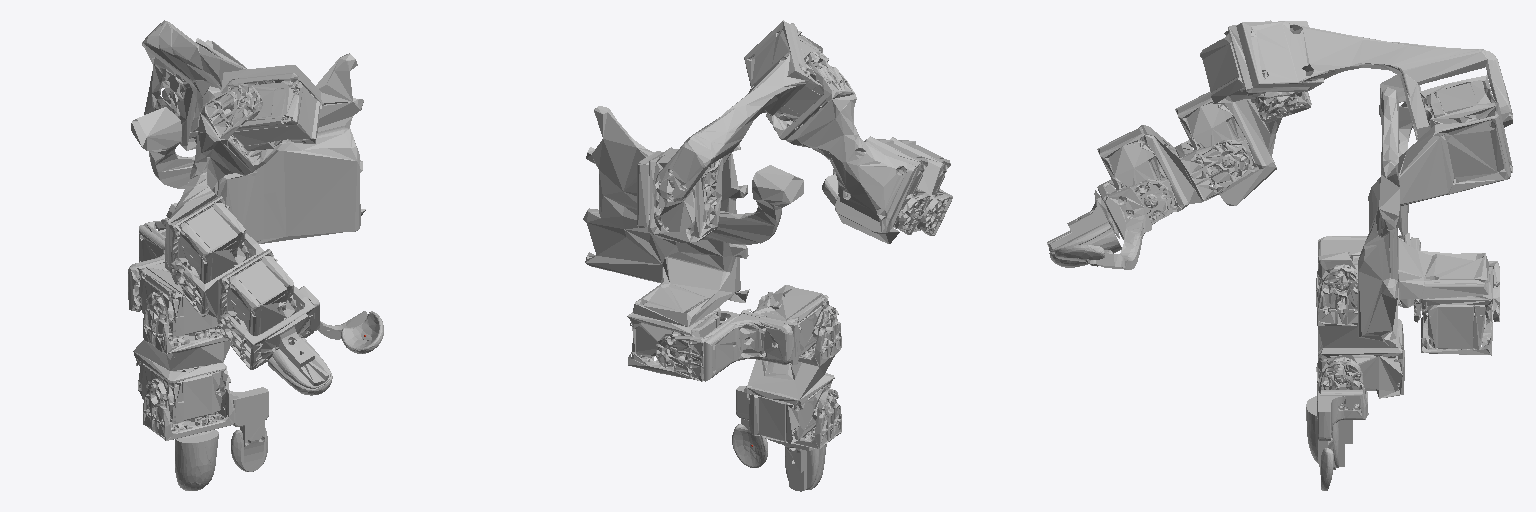
The robot description file, URDF, robot "ditto_leader_7dof":
<?xml version="1.0"?>
<!-- Cleaned from the SolidWorks export fingertip_tracking_urdf_leader_v1.urdf: re-rooted at hand_piece (same joint values give the same pose), relative mesh paths, decimated meshes, marker spheres as primitives. Joint limits are the follower limits of hand_config/7dof_f02 (leader angles map 1:1 to the follower). -->
<robot name="ditto_leader_7dof">
  <link name="thumb_sphere">
    <inertial>
      <origin xyz="-2.844e-07 -0.01781916505 0.1758409884" rpy="0 0 0" />
      <mass value="5.23598775598299E-07" />
      <inertia ixx="5.23598775598299E-14" ixy="4.05800245658716E-30" ixz="-4.82056920754523E-30" iyy="5.23598775598299E-14" iyz="5.03864245159366E-30" izz="5.23598775598299E-14" />
    </inertial>
    <visual>
      <origin xyz="0 0 0" rpy="0 0 0" />
      <geometry>
        <sphere radius="0.000499651" />
      </geometry>
      <material name="marker">
        <color rgba="0.9 0.3 0.2 1" />
      </material>
    </visual>
    <collision>
      <origin xyz="0 0 0" rpy="0 0 0" />
      <geometry>
        <sphere radius="0.000499651" />
      </geometry>
    </collision>
  </link>
  <link name="thumb_fingertip">
    <inertial>
      <origin xyz="-0.0005143214167 -0.02128382673 0.003585513538" rpy="0 0 0" />
      <mass value="0.00663294273043832" />
      <inertia ixx="6.81038273411615E-07" ixy="1.99491502315781E-07" ixz="-4.27390127077952E-08" iyy="6.40566772977354E-07" iyz="2.3904592821882E-08" izz="9.0551022357068E-07" />
    </inertial>
    <visual>
      <origin xyz="0 0 0" rpy="0 0 0" />
      <geometry>
        <mesh filename="meshes/thumb_fingertip.stl" />
      </geometry>
      <material name="body">
        <color rgba="0.75 0.75 0.75 1" />
      </material>
    </visual>
    <collision>
      <origin xyz="0 0 0" rpy="0 0 0" />
      <geometry>
        <mesh filename="meshes/thumb_fingertip.stl" />
      </geometry>
    </collision>
  </link>
  <link name="thumb3_to_thumb4">
    <inertial>
      <origin xyz="-0.01776633077 -0.02111836154 0.01139892159" rpy="0 0 0" />
      <mass value="0.0234653618640663" />
      <inertia ixx="2.60295355985613E-06" ixy="2.18112328344641E-07" ixz="-1.09486346370975E-08" iyy="2.65968309678345E-06" iyz="-2.82281015779381E-07" izz="1.71402705743677E-06" />
    </inertial>
    <visual>
      <origin xyz="-0.02074831665 -0.02731054717 0.006974336497" rpy="0 0 0" />
      <geometry>
        <mesh filename="meshes/thumb3_to_thumb4.stl" />
      </geometry>
      <material name="body">
        <color rgba="0.75 0.75 0.75 1" />
      </material>
    </visual>
    <collision>
      <origin xyz="-0.02074831665 -0.02731054717 0.006974336497" rpy="0 0 0" />
      <geometry>
        <mesh filename="meshes/thumb3_to_thumb4.stl" />
      </geometry>
    </collision>
  </link>
  <link name="thumb2_to_thumb3">
    <inertial>
      <origin xyz="-0.04638806432 0.01070221474 -0.01534306747" rpy="0 0 0" />
      <mass value="0.0375905426209132" />
      <inertia ixx="7.23727159604798E-06" ixy="-1.25445448845836E-06" ixz="-2.98132707650357E-06" iyy="1.02870773464202E-05" iyz="-2.04216917875208E-06" izz="7.64447290565789E-06" />
    </inertial>
    <visual>
      <origin xyz="-0.05901525257 0.002996568795 -0.02312614013" rpy="0 0 0" />
      <geometry>
        <mesh filename="meshes/thumb2_to_thumb3.stl" />
      </geometry>
      <material name="body">
        <color rgba="0.75 0.75 0.75 1" />
      </material>
    </visual>
    <collision>
      <origin xyz="-0.05901525257 0.002996568795 -0.02312614013" rpy="0 0 0" />
      <geometry>
        <mesh filename="meshes/thumb2_to_thumb3.stl" />
      </geometry>
    </collision>
  </link>
  <link name="thumb1_to_thumb2">
    <inertial>
      <origin xyz="-0.01980624617 0.008193245618 0.03162549756" rpy="0 0 1.570796327" />
      <mass value="0.0359943102214213" />
      <inertia ixx="3.75951522831487E-06" ixy="-1.03126454555417E-06" ixz="3.11220612264443E-06" iyy="1.90322373297762E-05" iyz="-1.36446011369964E-07" izz="1.86999982186672E-05" />
    </inertial>
    <visual>
      <origin xyz="-0.01532050865 -0.008703740045 0.01784838041" rpy="0 0 1.570796327" />
      <geometry>
        <mesh filename="meshes/thumb1_to_thumb2.stl" />
      </geometry>
      <material name="body">
        <color rgba="0.75 0.75 0.75 1" />
      </material>
    </visual>
    <collision>
      <origin xyz="-0.01532050865 -0.008703740045 0.01784838041" rpy="0 0 1.570796327" />
      <geometry>
        <mesh filename="meshes/thumb1_to_thumb2.stl" />
      </geometry>
    </collision>
  </link>
  <link name="hand_piece">
    <inertial>
      <origin xyz="0.002166575708 0.05067867365 -0.02670771025" rpy="0 0 0" />
      <mass value="0.104043539352612" />
      <inertia ixx="4.08609409243529E-05" ixy="5.29300374284557E-06" ixz="7.54033889086746E-07" iyy="5.99007672383681E-05" iyz="-2.48156326780814E-06" izz="3.9017668443744E-05" />
    </inertial>
    <visual>
      <origin xyz="0 0 0" rpy="0 0 0" />
      <geometry>
        <mesh filename="meshes/hand_piece.stl" />
      </geometry>
      <material name="body">
        <color rgba="0.75 0.75 0.75 1" />
      </material>
    </visual>
    <collision>
      <origin xyz="0 0 0" rpy="0 0 0" />
      <geometry>
        <mesh filename="meshes/hand_piece.stl" />
      </geometry>
    </collision>
  </link>
  <link name="index1_to_index2">
    <inertial>
      <origin xyz="-0.003459505881 0.02707438953 -3.069031543e-06" rpy="0 0 0" />
      <mass value="0.0233725761085749" />
      <inertia ixx="1.36213921192831E-06" ixy="1.74608988290047E-07" ixz="1.37828116713699E-09" iyy="2.95493236889138E-06" iyz="8.41761825157323E-11" izz="2.90002852518248E-06" />
    </inertial>
    <visual>
      <origin xyz="0 0 0" rpy="0 0 0" />
      <geometry>
        <mesh filename="meshes/index1_to_index2.stl" />
      </geometry>
      <material name="body">
        <color rgba="0.75 0.75 0.75 1" />
      </material>
    </visual>
    <collision>
      <origin xyz="0 0 0" rpy="0 0 0" />
      <geometry>
        <mesh filename="meshes/index1_to_index2.stl" />
      </geometry>
    </collision>
  </link>
  <link name="index2_to_index3">
    <inertial>
      <origin xyz="0.005551244592 0.01742497839 -0.03251164027" rpy="0 0 0" />
      <mass value="0.0276474233312734" />
      <inertia ixx="2.011378093149E-06" ixy="2.65859521689334E-09" ixz="5.00764905506088E-08" iyy="2.75213745572502E-06" iyz="8.38424408705795E-11" izz="3.43958611696569E-06" />
    </inertial>
    <visual>
      <origin xyz="0 0 0" rpy="0 0 0" />
      <geometry>
        <mesh filename="meshes/index2_to_index3.stl" />
      </geometry>
      <material name="body">
        <color rgba="0.75 0.75 0.75 1" />
      </material>
    </visual>
    <collision>
      <origin xyz="0 0 0" rpy="0 0 0" />
      <geometry>
        <mesh filename="meshes/index2_to_index3.stl" />
      </geometry>
    </collision>
  </link>
  <link name="index_fingertip">
    <inertial>
      <origin xyz="-0.002038587809 0.006227480472 -0.01540293084" rpy="0 0 0" />
      <mass value="0.00673947097021502" />
      <inertia ixx="1.02623828734203E-06" ixy="-3.08234239347777E-08" ixz="-3.2035993677945E-08" iyy="6.04001728012509E-07" iyz="-4.95796227697548E-08" izz="7.46024743434737E-07" />
    </inertial>
    <visual>
      <origin xyz="0 0 0" rpy="0 0 0" />
      <geometry>
        <mesh filename="meshes/index_fingertip.stl" />
      </geometry>
      <material name="body">
        <color rgba="0.75 0.75 0.75 1" />
      </material>
    </visual>
    <collision>
      <origin xyz="0 0 0" rpy="0 0 0" />
      <geometry>
        <mesh filename="meshes/index_fingertip.stl" />
      </geometry>
    </collision>
  </link>
  <link name="index_sphere">
    <inertial>
      <origin xyz="5.126348697e-07 0 0" rpy="0 0 0" />
      <mass value="5.23598775598299E-07" />
      <inertia ixx="5.23598775598299E-14" ixy="-1.38777878078145E-30" ixz="-2.06794988360024E-38" iyy="5.23598775598299E-14" iyz="9.40395480055977E-38" izz="5.23598775598299E-14" />
    </inertial>
    <visual>
      <origin xyz="0 0 0" rpy="0 0 0" />
      <geometry>
        <sphere radius="0.0005" />
      </geometry>
      <material name="marker">
        <color rgba="0.9 0.3 0.2 1" />
      </material>
    </visual>
    <collision>
      <origin xyz="0 0 0" rpy="0 0 0" />
      <geometry>
        <sphere radius="0.0005" />
      </geometry>
    </collision>
  </link>
  <link name="trakstar_sphere">
    <inertial>
      <origin xyz="5.126348697e-07 0 0" rpy="0 0 0" />
      <mass value="5.23598775598299E-07" />
      <inertia ixx="5.23598775598299E-14" ixy="-1.34756934696506E-30" ixz="-3.23119962436386E-45" iyy="5.23598775598299E-14" iyz="7.17464813734306E-43" izz="5.23598775598299E-14" />
    </inertial>
    <visual>
      <origin xyz="0 0 0" rpy="0 0 0" />
      <geometry>
        <sphere radius="0.0005" />
      </geometry>
      <material name="marker">
        <color rgba="0.9 0.3 0.2 1" />
      </material>
    </visual>
    <collision>
      <origin xyz="0 0 0" rpy="0 0 0" />
      <geometry>
        <sphere radius="0.0005" />
      </geometry>
    </collision>
  </link>
  <joint name="thumb1" type="revolute">
    <origin xyz="0 0 0" rpy="0 0 0" />
    <parent link="hand_piece" />
    <child link="thumb1_to_thumb2" />
    <axis xyz="0.1664166548 -0.9668080866 -0.1938752707" />
    <limit lower="-0.436332" upper="0.523599" effort="10" velocity="4.8" />
  </joint>
  <joint name="index1" type="revolute">
    <origin xyz="-0.01214814623 0.03811247766 -0.06877882933" rpy="0 0 1.570796327" />
    <parent link="hand_piece" />
    <child link="index1_to_index2" />
    <axis xyz="-1 0 0" />
    <limit lower="-0.226893" upper="0.418879" effort="10" velocity="4.8" />
  </joint>
  <joint name="trakstar_sphere_joint" type="fixed">
    <origin xyz="-0.04214865886 0.04101247766 0.006221170675" rpy="-1.570796327 0 0" />
    <parent link="hand_piece" />
    <child link="trakstar_sphere" />
    <axis xyz="0 0 0" />
  </joint>
  <joint name="thumb2" type="revolute">
    <origin xyz="-0.01532050865 -0.008703740045 0.01784838041" rpy="0 0 1.570796327" />
    <parent link="thumb1_to_thumb2" />
    <child link="thumb2_to_thumb3" />
    <axis xyz="-0.2555036665 0.6297090364 0.7336105274" />
    <limit lower="-1.570796" upper="-0.349066" effort="10" velocity="4.8" />
  </joint>
  <joint name="index2" type="revolute">
    <origin xyz="-0.0205 0.0127 0" rpy="0 0 0" />
    <parent link="index1_to_index2" />
    <child link="index2_to_index3" />
    <axis xyz="0 1 0" />
    <limit lower="-0.174533" upper="1.570796" effort="10" velocity="4.8" />
  </joint>
  <joint name="thumb3" type="revolute">
    <origin xyz="-0.05901525257 0.002996568795 -0.02312614013" rpy="0 0 0" />
    <parent link="thumb2_to_thumb3" />
    <child link="thumb3_to_thumb4" />
    <axis xyz="-0.803818247 0.5580696777 -0.2059962635" />
    <limit lower="-1.570796" upper="0.174533" effort="10" velocity="4.8" />
  </joint>
  <joint name="index3" type="revolute">
    <origin xyz="0 0 -0.041" rpy="0 0 0" />
    <parent link="index2_to_index3" />
    <child link="index_fingertip" />
    <axis xyz="0 1 0" />
    <limit lower="-0.174533" upper="1.570796" effort="10" velocity="4.8" />
  </joint>
  <joint name="thumb4" type="revolute">
    <origin xyz="-0.02074831665 -0.02731054717 0.006974336497" rpy="0 0 0" />
    <parent link="thumb3_to_thumb4" />
    <child link="thumb_fingertip" />
    <axis xyz="-0.803818247 0.5580696777 -0.2059962635" />
    <limit lower="-1.570796" upper="0.174533" effort="10" velocity="4.8" />
  </joint>
  <joint name="index_sphere_joint" type="fixed">
    <origin xyz="-0.007 -0.0105 -0.03219948737" rpy="3.141592639 1.570796327 0" />
    <parent link="index_fingertip" />
    <child link="index_sphere" />
    <axis xyz="0 0 0" />
  </joint>
  <joint name="thumb_sphere_joint" type="fixed">
    <origin xyz="0.0056538692 -0.0456884615 0.00853535992" rpy="-1.570796327 0 0" />
    <parent link="thumb_fingertip" />
    <child link="thumb_sphere" />
    <axis xyz="0 0 0" />
  </joint>
</robot>

--- What the picture shows (computed from the rendered views, not written in the file) ---
The picture shows the robot from 3 angles, left to right: view 1: azimuth 30°, elevation 25°; view 2: azimuth 150°, elevation 25°; view 3: azimuth 270°, elevation 25°; orthographic projection.
Model ditto_leader_7dof with 11 links and 10 joints (7 revolute, 3 fixed), rooted at hand_piece, posed joints at zero except 1 at the middle of their limits (thumb2 = -0.9599).
Links seen in each view (by area): view 1: hand_piece, thumb2_to_thumb3, thumb1_to_thumb2, index_fingertip, thumb_fingertip, index2_to_index3, thumb3_to_thumb4, index1_to_index2; view 2: hand_piece, thumb2_to_thumb3, thumb1_to_thumb2, index1_to_index2, index2_to_index3, index_fingertip, thumb3_to_thumb4, thumb_fingertip; view 3: hand_piece, thumb1_to_thumb2, thumb3_to_thumb4, thumb2_to_thumb3, thumb_fingertip, index2_to_index3, index_fingertip, index1_to_index2.
Boxes of the visible links, x1,y1,x2,y2 form: hand_piece: (131,38,365,245); thumb2_to_thumb3: (165,84,287,283); thumb1_to_thumb2: (142,20,323,150); index_fingertip: (143,369,268,490); thumb_fingertip: (218,286,383,395); index2_to_index3: (133,292,230,421); thumb3_to_thumb4: (170,233,296,343); index1_to_index2: (128,221,218,335); hand_piece: (583,106,803,378); thumb2_to_thumb3: (766,51,927,243); thumb1_to_thumb2: (655,20,826,201); index1_to_index2: (656,285,830,381); index2_to_index3: (744,292,841,443); index_fingertip: (732,386,841,491); thumb3_to_thumb4: (838,137,950,234); thumb_fingertip: (822,169,952,235); hand_piece: (1358,75,1512,355); thumb1_to_thumb2: (1200,21,1512,140); thumb3_to_thumb4: (1097,125,1248,221); thumb2_to_thumb3: (1175,20,1311,205); thumb_fingertip: (1047,179,1170,269); index2_to_index3: (1316,268,1404,398); index_fingertip: (1306,361,1368,490); index1_to_index2: (1318,233,1499,322).
Bounding box of the posed robot: 0.1358 × 0.1868 × 0.2112 m (x, y, z).
8 mesh visuals loaded from 8 distinct referenced files (8 binary STL).
